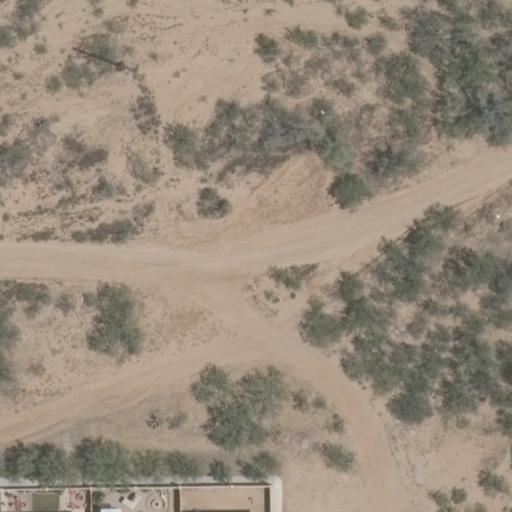DT: (75, 49, 132, 71)
